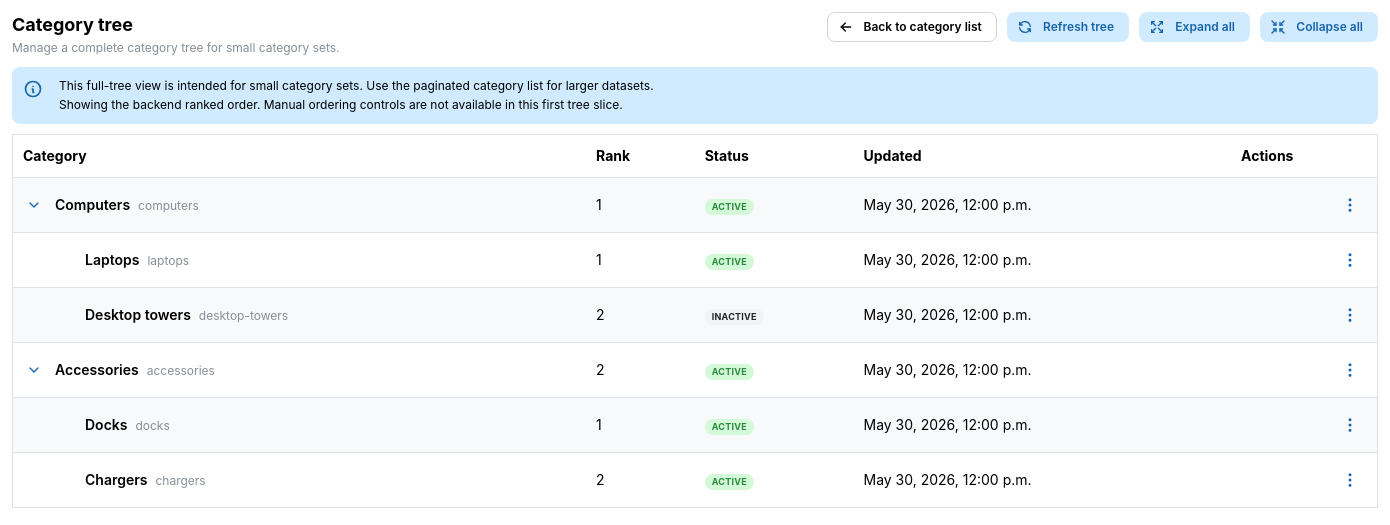
Test: SmallCategoryTreePage capability explanations › renders ranked-exposed order as read-only rank metadata
The image size is (1390, 525).
Check: the text "Showing the backend ranked order" is shown, box [59, 97, 623, 112]
Check: the column heading "Rank" is shown, box [586, 135, 695, 178]
Click the button named "More actions for Laptops".
click(1350, 260)  # box [1333, 243, 1367, 277]
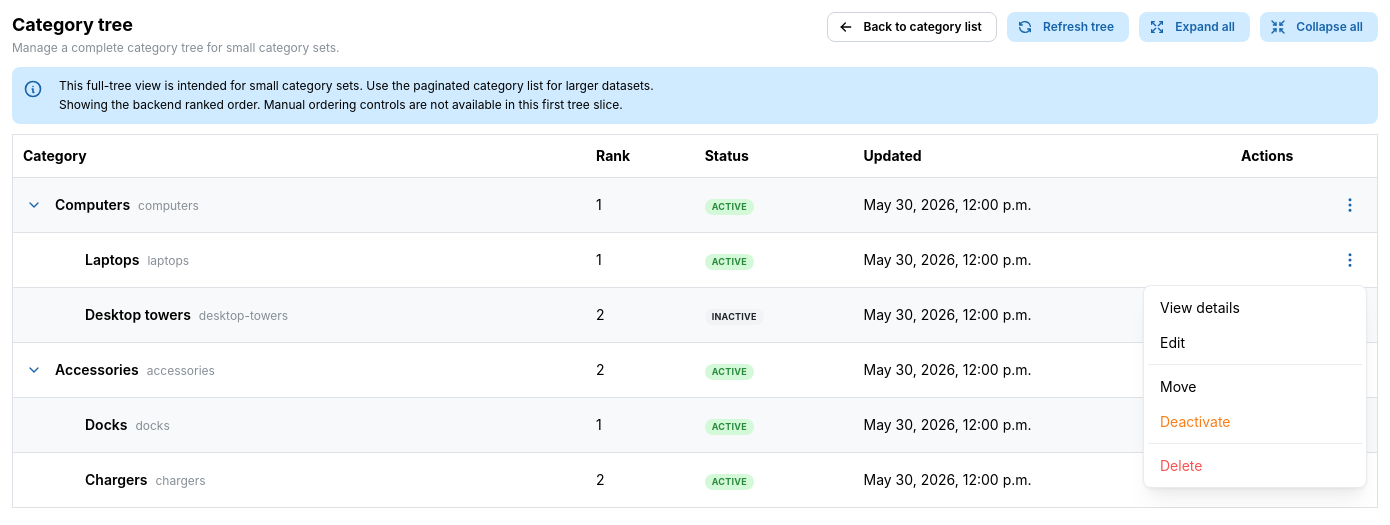
Check: the menu item "Move" is shown, box [1148, 369, 1362, 404]
